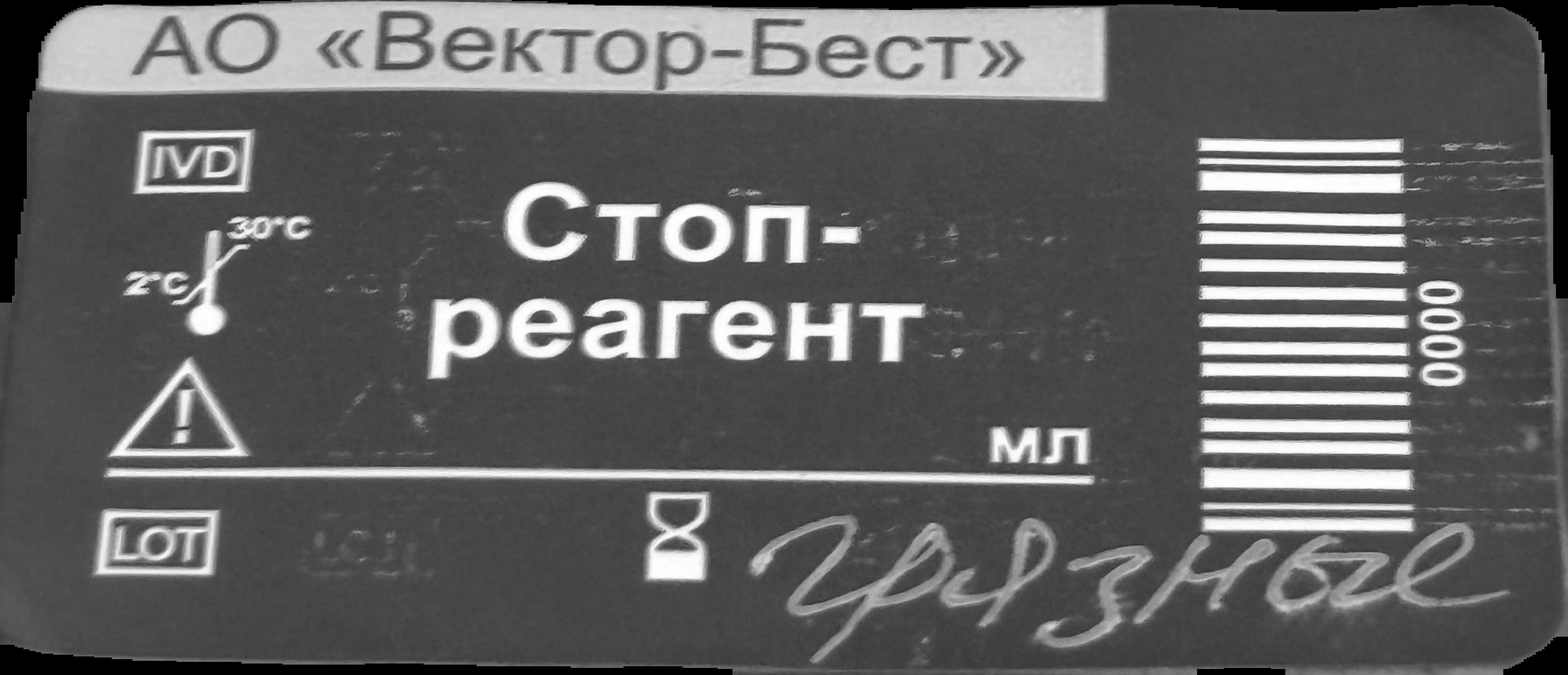something: (1190, 133, 1415, 538), (119, 207, 319, 341), (108, 352, 257, 463), (95, 503, 224, 587), (130, 126, 256, 195), (644, 486, 714, 586)
text: (422, 180, 929, 386), (125, 10, 1031, 91), (1418, 277, 1469, 391), (983, 420, 1094, 466)
